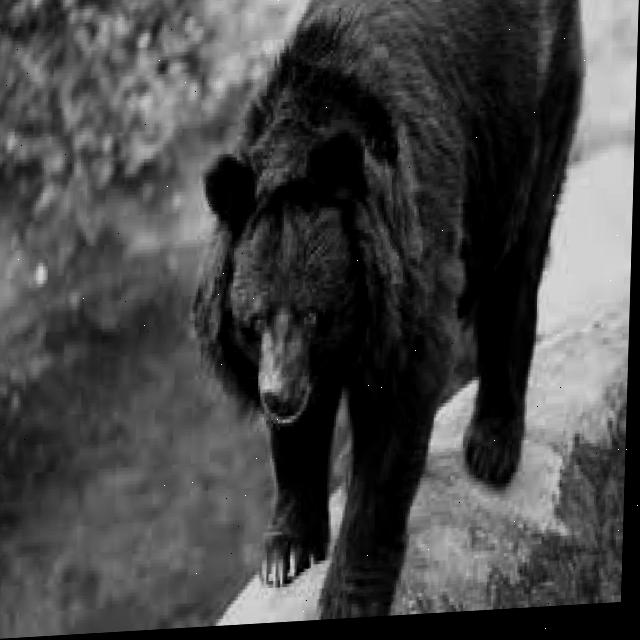Bear: (182, 0, 589, 628)
